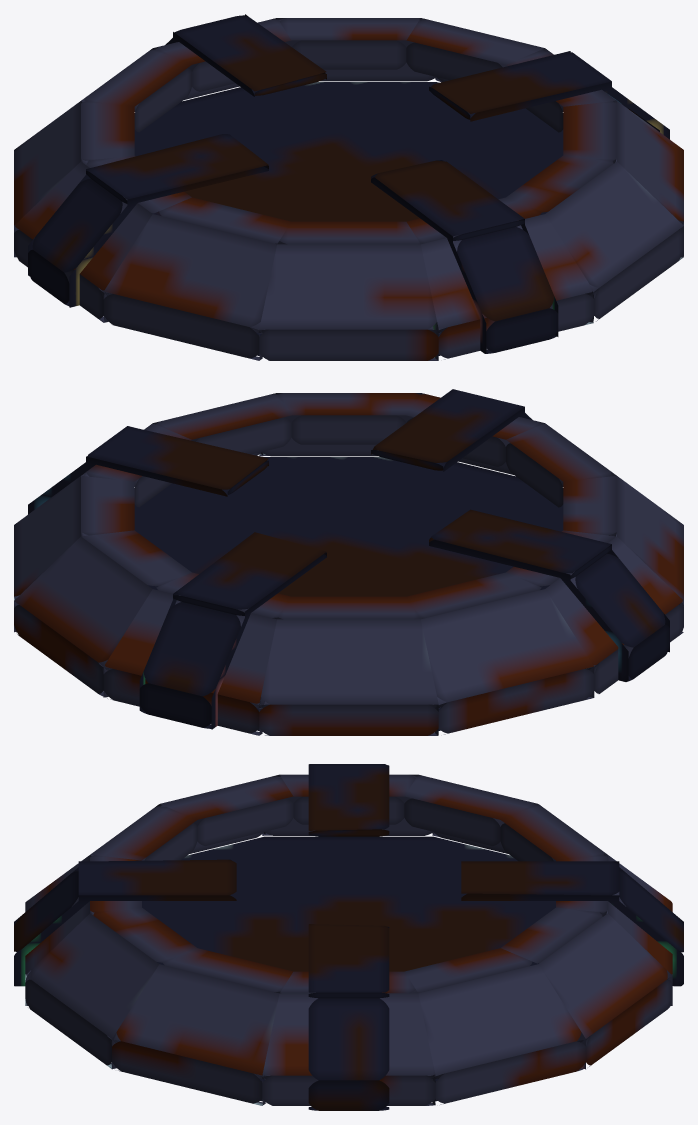
The model's file is StoveFlamePart.fbx.
3 views of the same model, one above another, from view 1: azimuth 30°, elevation 25°; view 2: azimuth 150°, elevation 25°; view 3: azimuth 270°, elevation 25° (orthographic). The views are drawn at different scales.
Parts seen in each view (by area): view 1: Base, Cube, cylinder; view 2: Base, Cube, cylinder; view 3: Base, Cube, cylinder.
Part boxes in pixels (left/top/right/bottom): Base: left=14, top=18, right=683, bottom=360; Cube: left=28, top=14, right=669, bottom=353; cylinder: left=107, top=82, right=563, bottom=355; Base: left=14, top=393, right=683, bottom=735; Cube: left=28, top=389, right=669, bottom=729; cylinder: left=134, top=457, right=563, bottom=730; Base: left=25, top=774, right=672, bottom=1105; Cube: left=14, top=764, right=683, bottom=1110; cylinder: left=142, top=836, right=555, bottom=1101.
Size of the model in its own units: 100 by 15.26 by 100.
1 material, 1 textured.
